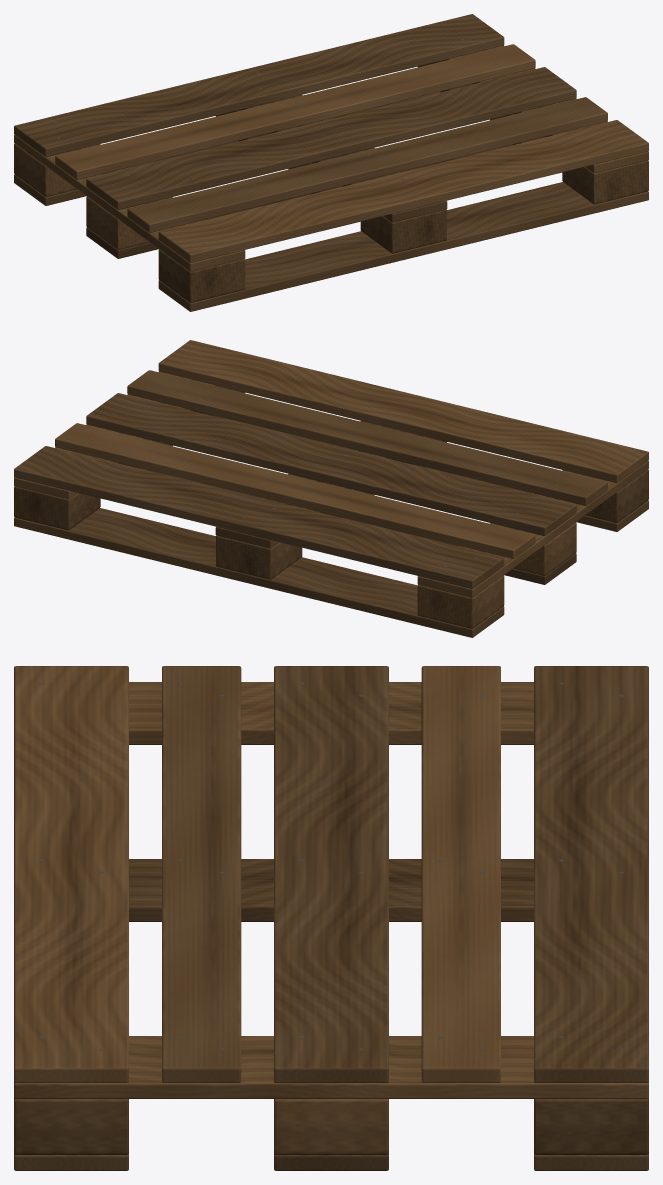
Rendered from wooden_shipping_pallet_LOD0.glb.
The picture shows the model from 3 angles, top to bottom: view 1: azimuth 30°, elevation 25°; view 2: azimuth 150°, elevation 25°; view 3: azimuth 270°, elevation 25°; orthographic projection. The views are drawn at different scales.
Visible parts, largest first — view 1: Top_Deck_Board_5, Top_Deck_Board_1, Top_Deck_Board_3, Top_Deck_Board_2, Top_Deck_Board_4, Bottom_Runner_1, Support_Block_1_1, Cross_Board_1, Support_Block_3_1, Support_Block_2_1, Support_Block_1_2, Support_Block_1_3 (+4 smaller); view 2: Top_Deck_Board_1, Top_Deck_Board_3, Top_Deck_Board_5, Top_Deck_Board_2, Top_Deck_Board_4, Bottom_Runner_3, Support_Block_1_3, Cross_Board_1, Support_Block_3_3, Support_Block_2_3, Support_Block_1_2, Support_Block_1_1 (+4 smaller); view 3: Top_Deck_Board_1, Top_Deck_Board_3, Top_Deck_Board_5, Top_Deck_Board_2, Top_Deck_Board_4, Cross_Board_3, Cross_Board_1, Cross_Board_2, Support_Block_3_1, Support_Block_3_3, Support_Block_3_2, Bottom_Runner_1 (+2 smaller).
Part boxes in pixels (x1,y1,x2,y2): Top_Deck_Board_5: (14, 14, 504, 156); Top_Deck_Board_1: (158, 120, 648, 262); Top_Deck_Board_3: (86, 67, 576, 209); Top_Deck_Board_2: (127, 97, 607, 232); Top_Deck_Board_4: (55, 44, 535, 179); Bottom_Runner_1: (158, 182, 648, 311); Support_Block_1_1: (158, 249, 245, 302); Cross_Board_1: (14, 134, 245, 271); Support_Block_3_1: (562, 160, 648, 204); Support_Block_2_1: (360, 209, 446, 253); Support_Block_1_2: (86, 196, 149, 249); Support_Block_1_3: (14, 143, 77, 196); Top_Deck_Board_1: (158, 340, 648, 482); Top_Deck_Board_3: (86, 393, 576, 535); Top_Deck_Board_5: (14, 446, 504, 588); Top_Deck_Board_2: (127, 370, 607, 505); Top_Deck_Board_4: (55, 423, 535, 558); Bottom_Runner_3: (14, 508, 504, 637); Support_Block_1_3: (417, 575, 504, 628); Cross_Board_1: (417, 460, 648, 597); Support_Block_3_3: (14, 486, 100, 530); Support_Block_2_3: (216, 535, 302, 579); Support_Block_1_2: (513, 522, 576, 575); Support_Block_1_1: (585, 469, 648, 522); Top_Deck_Board_1: (14, 666, 128, 1082); Top_Deck_Board_3: (274, 666, 388, 1082); Top_Deck_Board_5: (534, 666, 648, 1082); Top_Deck_Board_2: (162, 666, 241, 1082); Top_Deck_Board_4: (421, 666, 500, 1082); Cross_Board_3: (14, 1036, 648, 1098); Cross_Board_1: (129, 682, 533, 744); Cross_Board_2: (129, 859, 533, 921); Support_Block_3_1: (14, 1098, 128, 1154); Support_Block_3_3: (534, 1098, 648, 1154); Support_Block_3_2: (274, 1099, 388, 1154); Bottom_Runner_1: (14, 1153, 128, 1170).
Size of the model in its own units: 1.2 by 0.1442 by 0.8.
2 materials, 1 textured.
